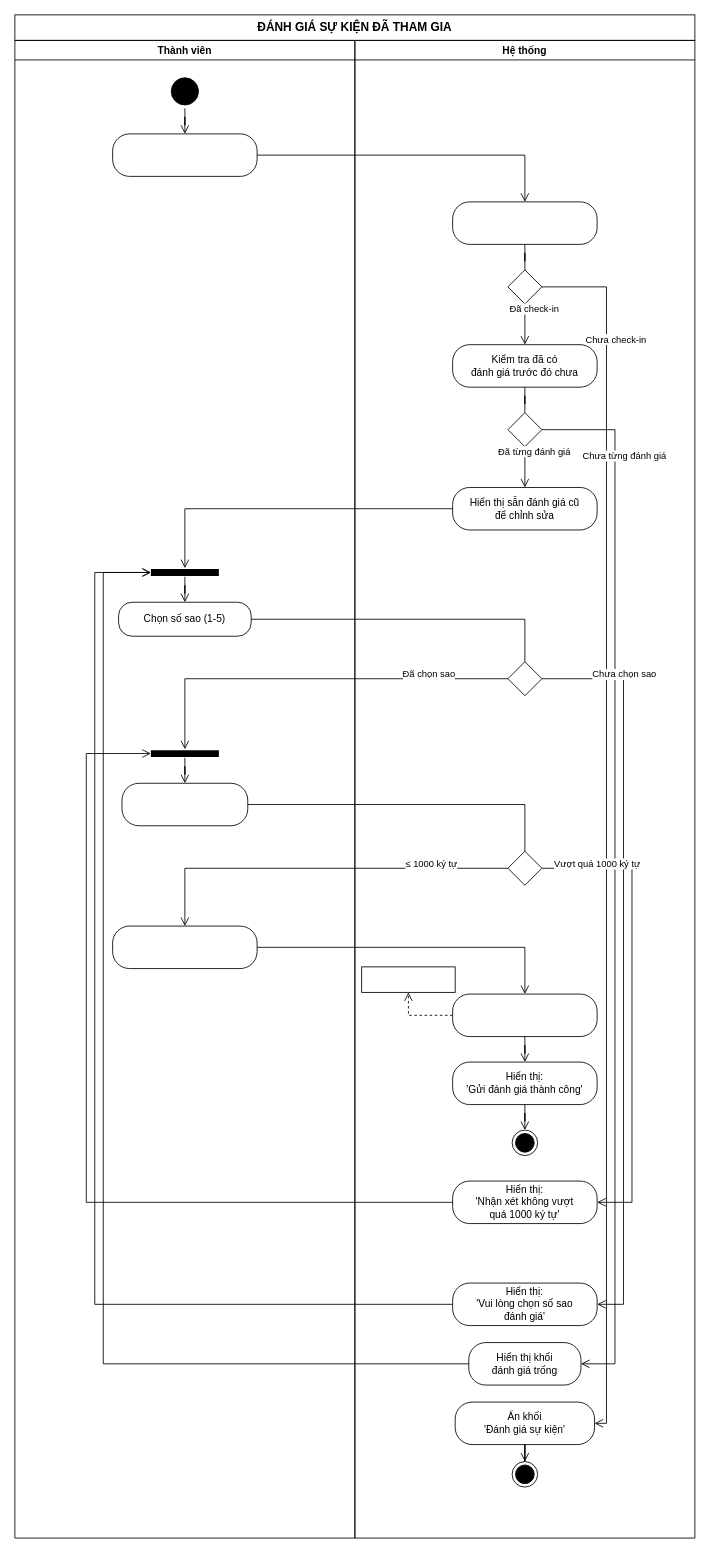
Some shapes in this 710 by 1553 pixel diagram are drawn without their labels. The box of each missing label's shape, as (x1, y1, x2, y2) in pixels:
EventFeedback: (361, 966, 455, 992)
Kiểm tra người dùng đã check-in sự kiện: (452, 201, 597, 244)
Lưu đánh giá (số sao + nhận xét): (452, 993, 597, 1037)
Nhấn 'Gửi đánh giá' hoặc 'Cập nhật đánh giá': (112, 925, 257, 969)
Nhập nhận xét (không bắt buộc): (121, 782, 248, 826)
Vào 'Chi tiết sự kiện' đã kết thúc: (112, 133, 257, 176)
